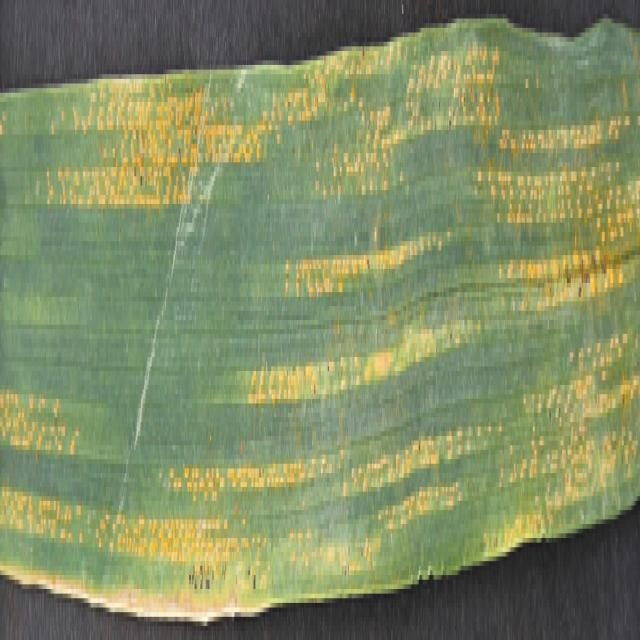leaf rust: (1, 301, 638, 603), (41, 19, 638, 278)
